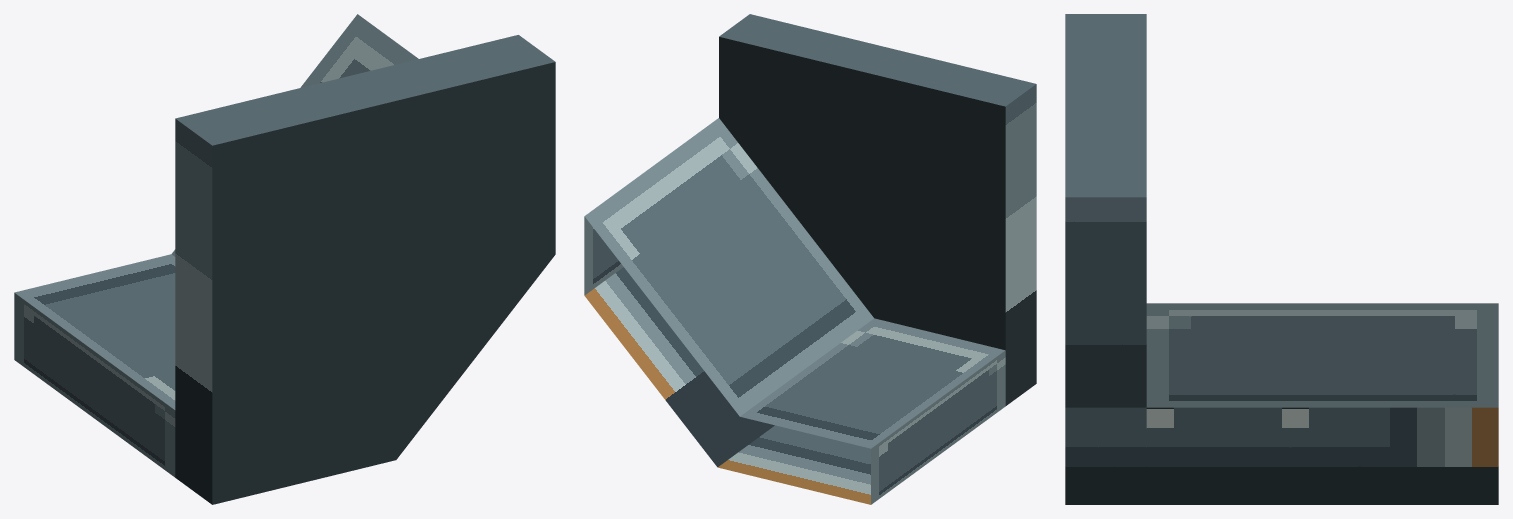
File: casing_d5_rear_x1_y-2.obj
The picture shows the model from 3 angles, left to right: view 1: azimuth 30°, elevation 25°; view 2: azimuth 150°, elevation 25°; view 3: azimuth 270°, elevation 25°; orthographic projection. The views are drawn at different scales.
Visible parts, largest first — view 1: d5_rear_x1_y-2; view 2: d5_rear_x1_y-2; view 3: d5_rear_x1_y-2.
Part boxes in pixels (x1,y1,x2,y2): d5_rear_x1_y-2: (14, 14, 555, 504); d5_rear_x1_y-2: (584, 14, 1036, 504); d5_rear_x1_y-2: (1065, 14, 1498, 504).
Bounding box in the file's own units: 1 × 1 × 1.
